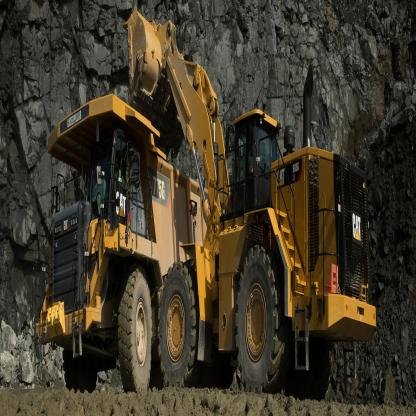bull_dozer/loader/grader: (129, 11, 375, 384)
dump_truck: (45, 96, 175, 393)
